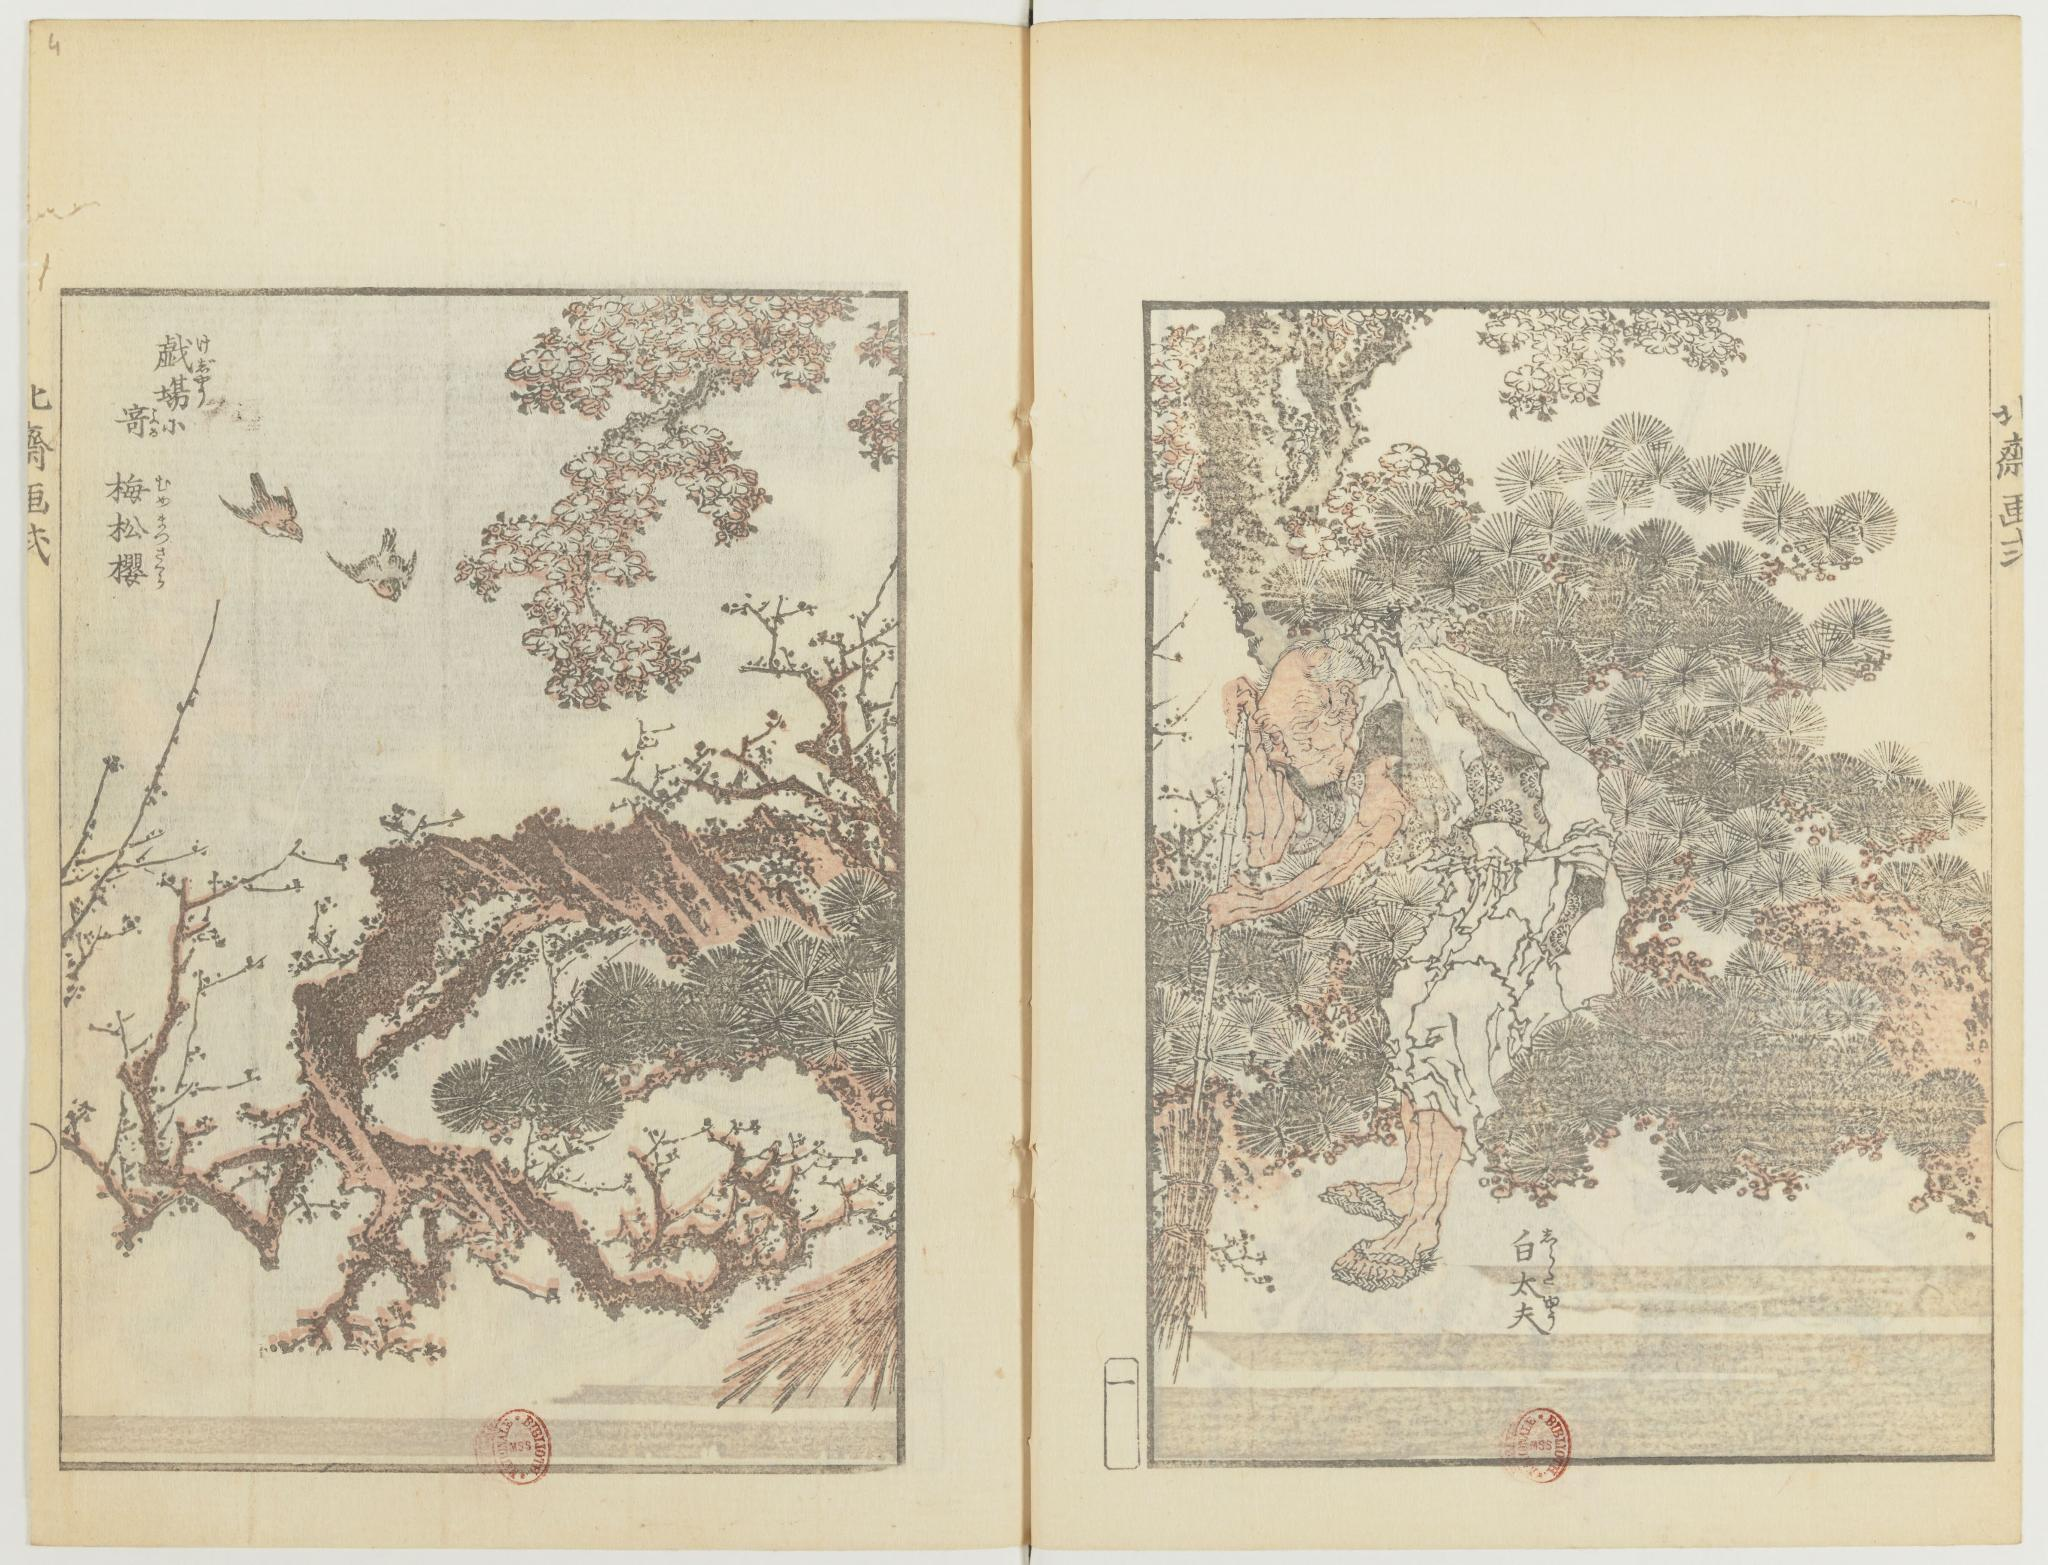MainZone-Character: (105, 547, 176, 589), (153, 330, 217, 373), (105, 470, 174, 506), (104, 513, 174, 546), (155, 373, 214, 409), (1507, 1299, 1561, 1336), (1511, 1226, 1561, 1266), (115, 403, 161, 441), (1511, 1266, 1563, 1299)
MainZone-Ruby: (194, 332, 215, 375), (151, 547, 169, 587), (192, 376, 212, 409), (151, 473, 171, 505), (1543, 1299, 1560, 1332), (151, 515, 169, 544), (1540, 1228, 1558, 1256), (146, 404, 159, 437), (1538, 1271, 1555, 1286)
